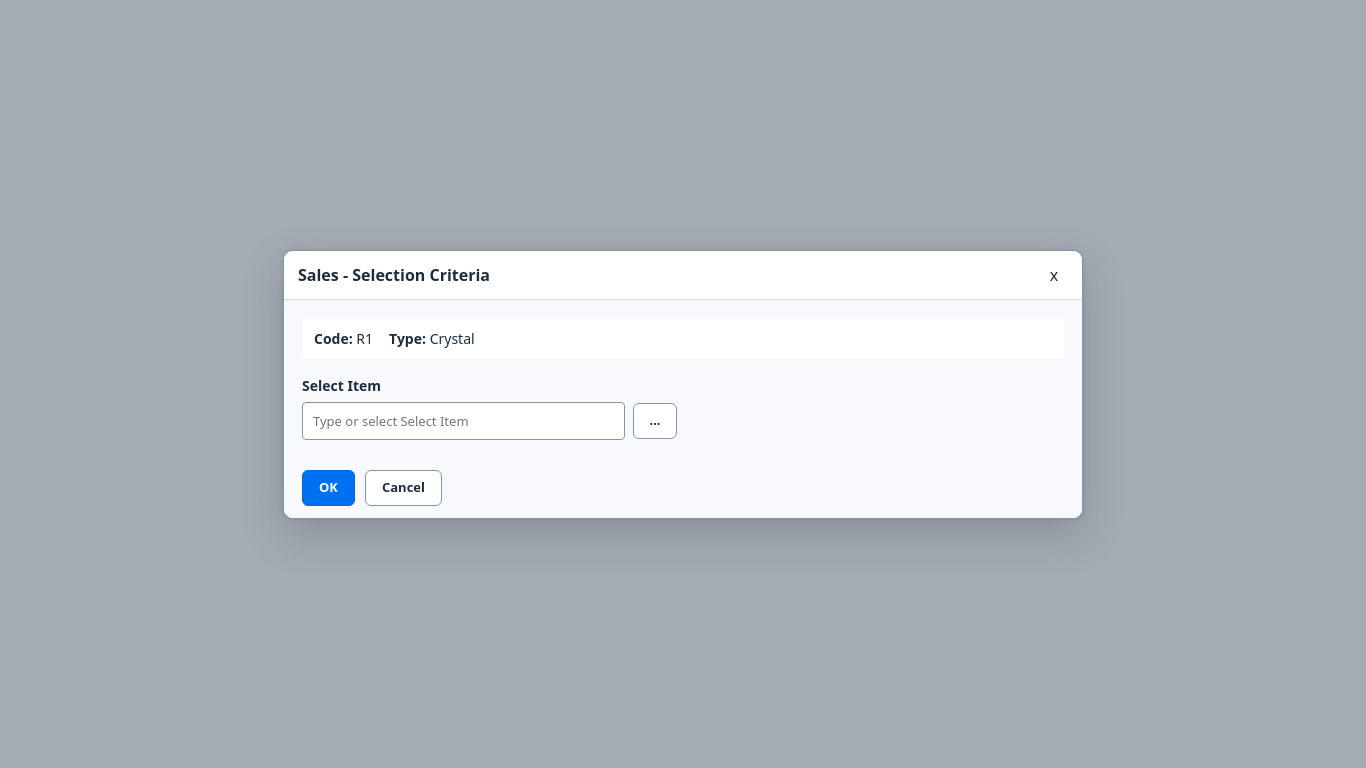
Scenario: resolves one typed item on Tab
In the field with placeholder "Type or select Select Item": coordinates (464, 420) [302, 402, 625, 440], type "I101"
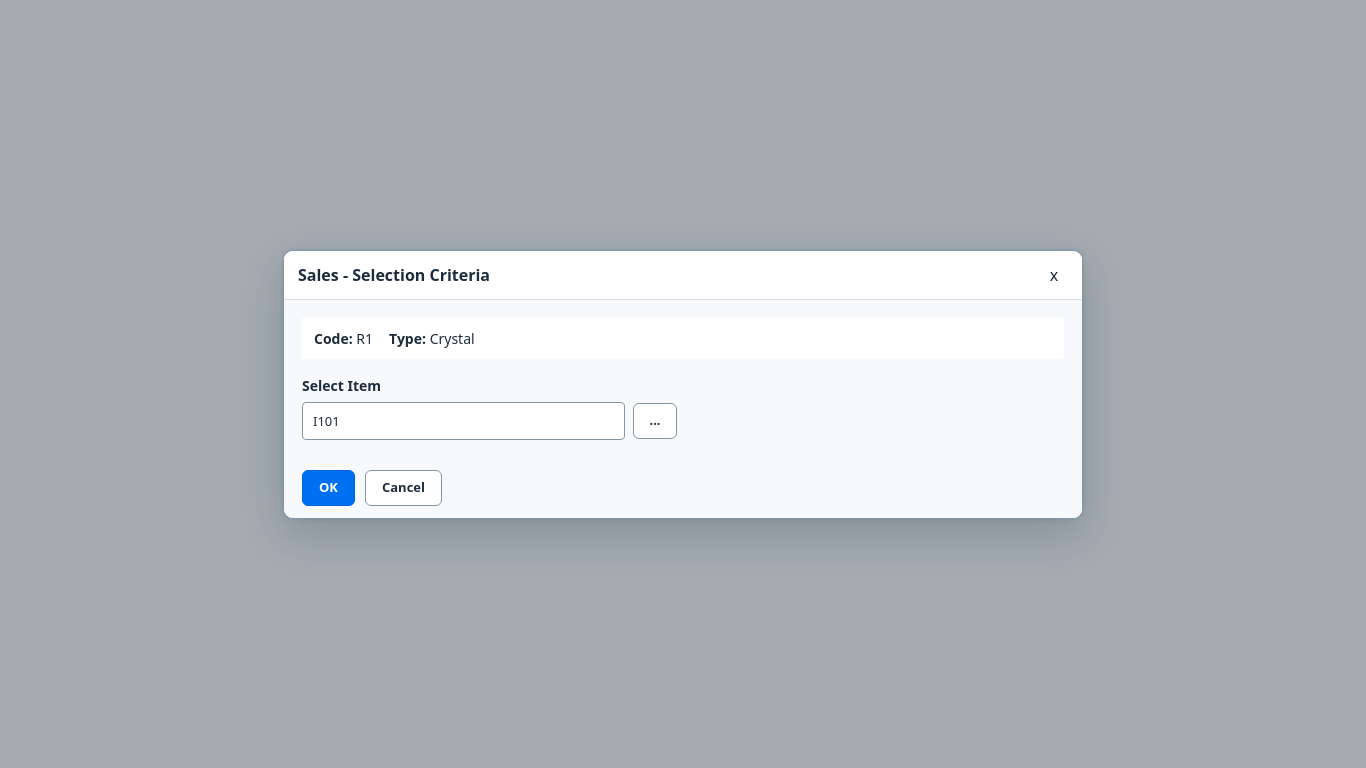
Press Tab in the field with placeholder "Type or select Select Item", box [302, 402, 625, 440]
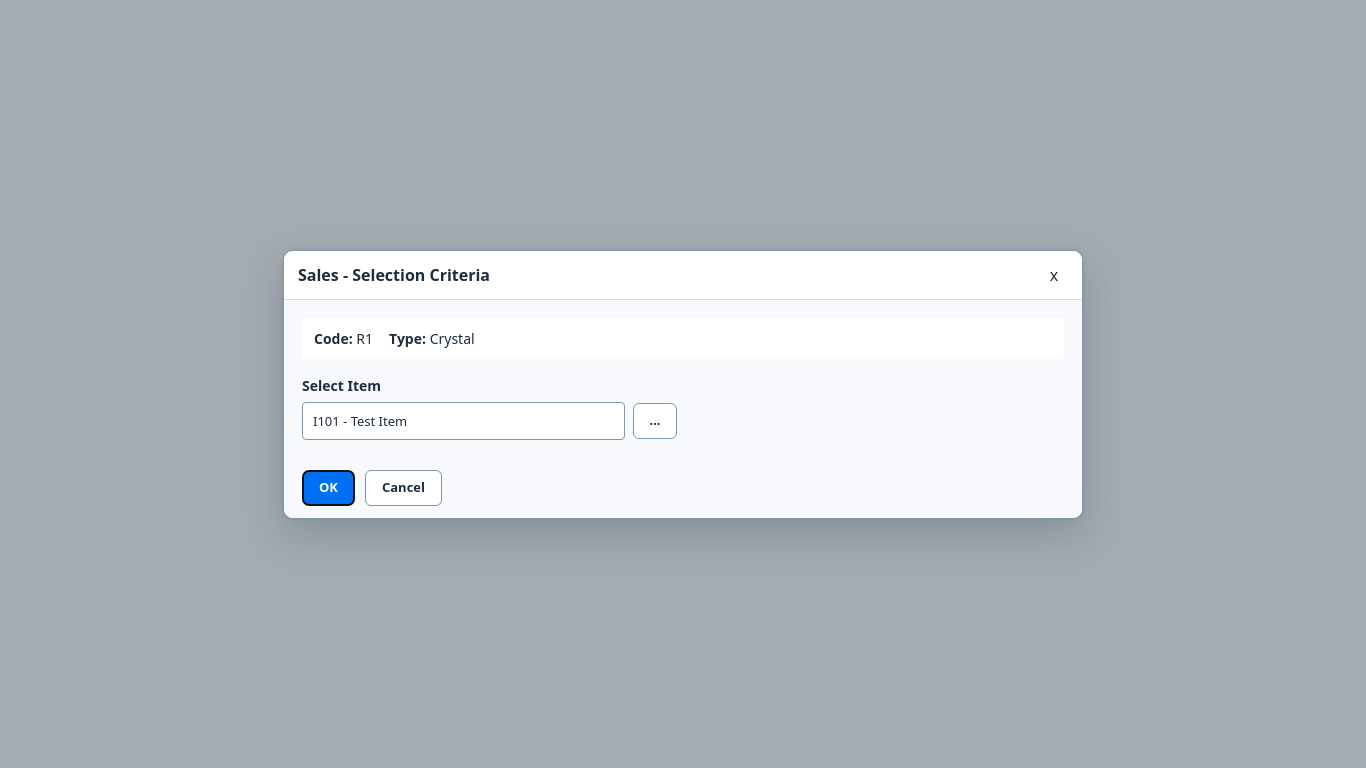
Check: the field with placeholder "Type or select Select Item" holds "I101 - Test Item", box [302, 402, 625, 440]
